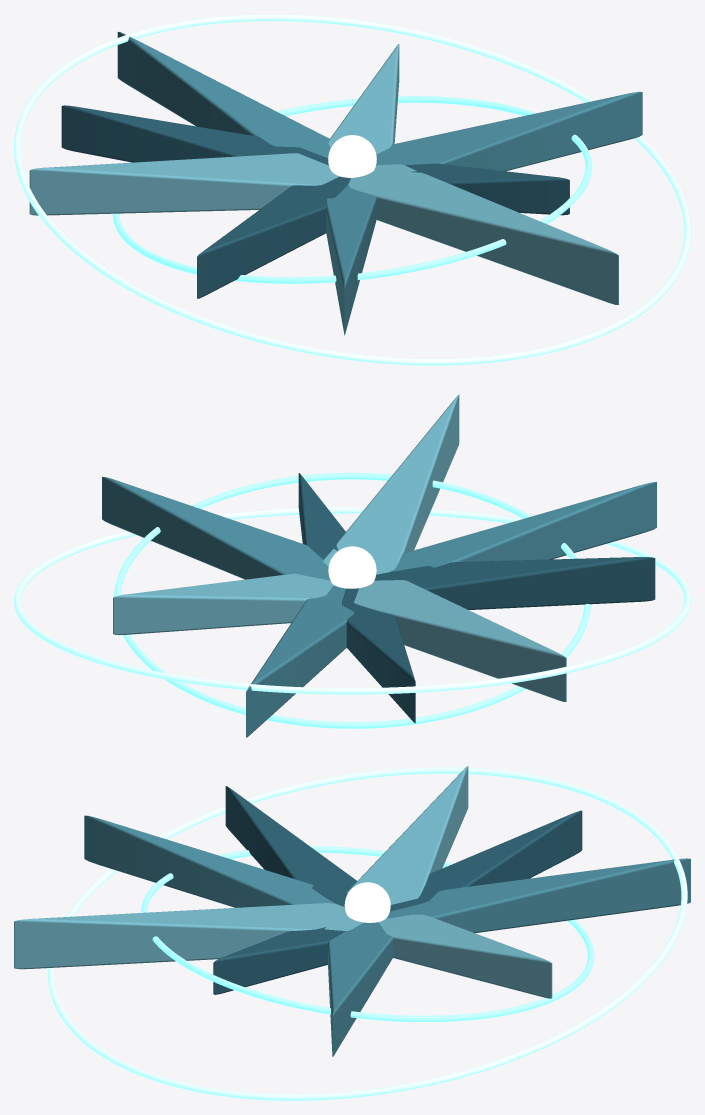
Rendered from star.glb.
3 renders of one model, top to bottom at view 1: azimuth 30°, elevation 25°; view 2: azimuth 150°, elevation 25°; view 3: azimuth 270°, elevation 25°, orthographic. The views are drawn at different scales.
Parts seen in each view (by area): view 1: Star_shard7, Star_shard6, Star_ring, Star_shard5, Star_shard3, Star_shard0, Star_shard1, Star_ring_in, Star_shard4, Star_shard2, Star_shard8, Star_core; view 2: Star_shard1, Star_shard6, Star_shard5, Star_shard4, Star_shard8, Star_shard7, Star_ring, Star_shard3, Star_ring_in, Star_shard0, Star_shard2, Star_core; view 3: Star_shard7, Star_shard3, Star_shard4, Star_ring, Star_shard8, Star_shard6, Star_shard0, Star_shard1, Star_shard5, Star_shard2, Star_ring_in, Star_core.
Boxes of the visible parts, bbox=[...] form: Star_shard7: bbox=[348, 164, 618, 304]; Star_shard6: bbox=[29, 153, 339, 215]; Star_ring: bbox=[14, 14, 690, 365]; Star_shard5: bbox=[376, 91, 642, 171]; Star_shard3: bbox=[117, 32, 330, 157]; Star_shard0: bbox=[61, 105, 328, 165]; Star_shard1: bbox=[197, 176, 350, 298]; Star_ring_in: bbox=[112, 96, 592, 283]; Star_shard4: bbox=[326, 185, 376, 335]; Star_shard2: bbox=[405, 163, 569, 215]; Star_shard8: bbox=[328, 44, 399, 154]; Star_core: bbox=[328, 135, 376, 177]; Star_shard1: bbox=[374, 557, 655, 609]; Star_shard6: bbox=[354, 580, 566, 701]; Star_shard5: bbox=[102, 477, 330, 580]; Star_shard4: bbox=[389, 482, 656, 572]; Star_shard8: bbox=[113, 573, 334, 635]; Star_shard7: bbox=[323, 394, 459, 574]; Star_ring: bbox=[14, 507, 690, 694]; Star_shard3: bbox=[246, 586, 354, 737]; Star_ring_in: bbox=[114, 472, 590, 728]; Star_shard0: bbox=[342, 588, 415, 723]; Star_shard2: bbox=[298, 473, 345, 559]; Star_core: bbox=[328, 546, 376, 588]; Star_shard7: bbox=[14, 903, 363, 969]; Star_shard3: bbox=[386, 858, 690, 933]; Star_shard4: bbox=[84, 815, 336, 907]; Star_ring: bbox=[47, 767, 687, 1100]; Star_shard8: bbox=[379, 914, 552, 998]; Star_shard6: bbox=[347, 766, 468, 904]; Star_shard0: bbox=[390, 810, 582, 911]; Star_shard1: bbox=[225, 786, 356, 906]; Star_shard5: bbox=[328, 922, 393, 1056]; Star_shard2: bbox=[213, 927, 345, 994]; Star_ring_in: bbox=[141, 846, 594, 1021]; Star_core: bbox=[344, 882, 390, 922].
Bounding box in the file's own units: 6.05 × 1.04 × 6.37.
